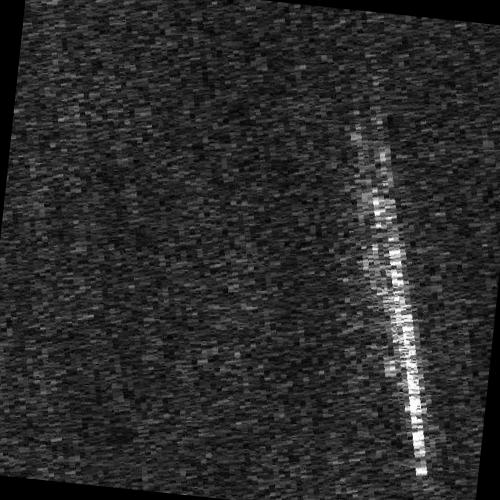ship: (372, 195, 427, 477)
